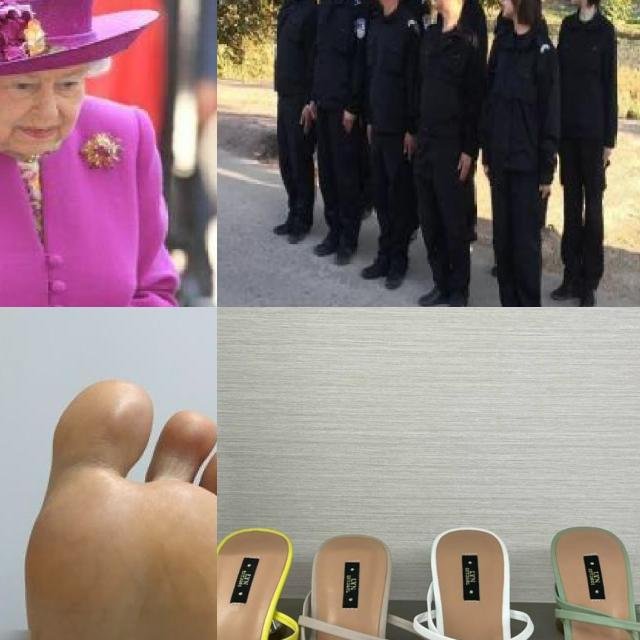Barefoots: (20, 382, 217, 640)
No_Glasses: (0, 62, 89, 102)
Sandals: (416, 501, 601, 640), (295, 514, 448, 640), (528, 493, 640, 640), (217, 492, 310, 640)
face_nomask: (0, 52, 81, 157)
hand_noglove: (454, 152, 472, 180), (402, 134, 416, 160), (340, 109, 354, 134), (299, 103, 311, 132), (602, 145, 613, 169), (538, 180, 552, 198), (364, 121, 374, 143), (308, 101, 316, 117), (482, 162, 490, 178)
person: (0, 0, 207, 307), (482, 0, 557, 307), (420, 0, 482, 307), (557, 0, 614, 307), (368, 0, 423, 292), (259, 0, 320, 239), (320, 0, 363, 269)
shoes: (284, 208, 318, 244), (332, 233, 363, 268), (310, 228, 348, 256), (383, 262, 411, 295), (415, 285, 454, 307), (444, 284, 470, 307)
